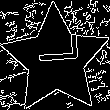L_W: (31, 43, 81, 76)
